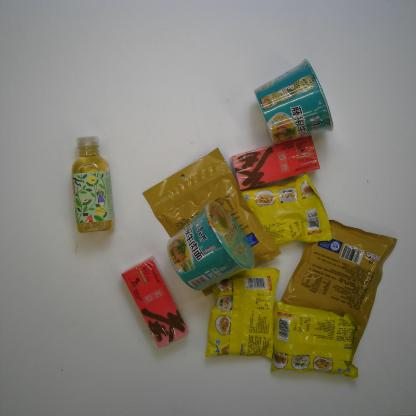Dried Fruit: (141, 147, 282, 298), (280, 219, 398, 353)
Drink: (71, 135, 115, 234)
Instant Drink: (121, 255, 190, 349), (230, 135, 321, 191)
Instant Noodles: (166, 199, 256, 292), (234, 172, 334, 246), (268, 300, 359, 378), (253, 58, 333, 146), (206, 266, 280, 359)
